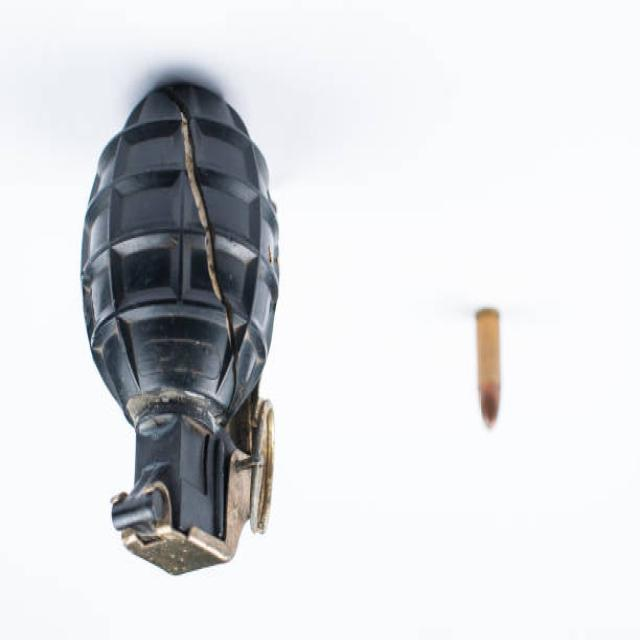grenade: (70, 79, 304, 585)
